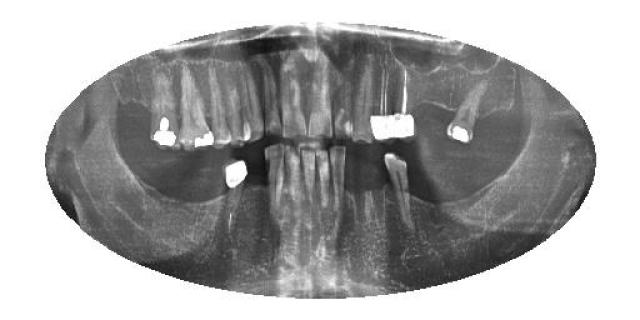Fillings: (180, 66, 216, 150), (446, 78, 490, 144), (149, 69, 181, 150), (220, 158, 250, 242)
Implant: (392, 66, 417, 139), (370, 68, 394, 144)
